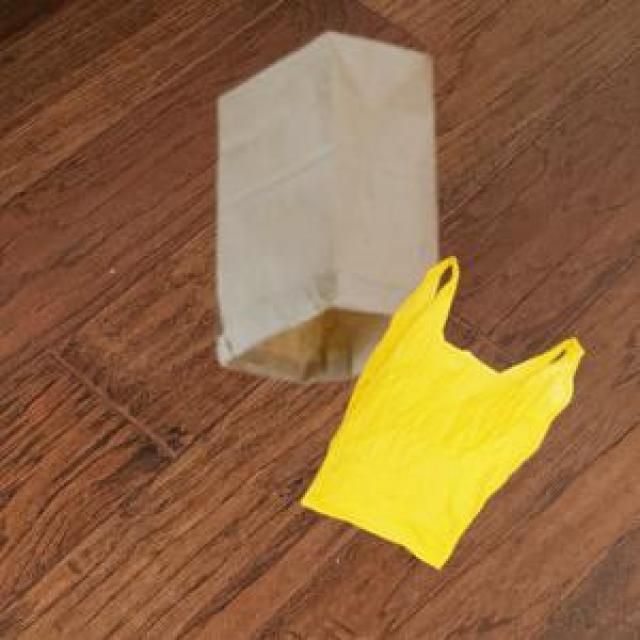paper: (216, 28, 433, 378)
